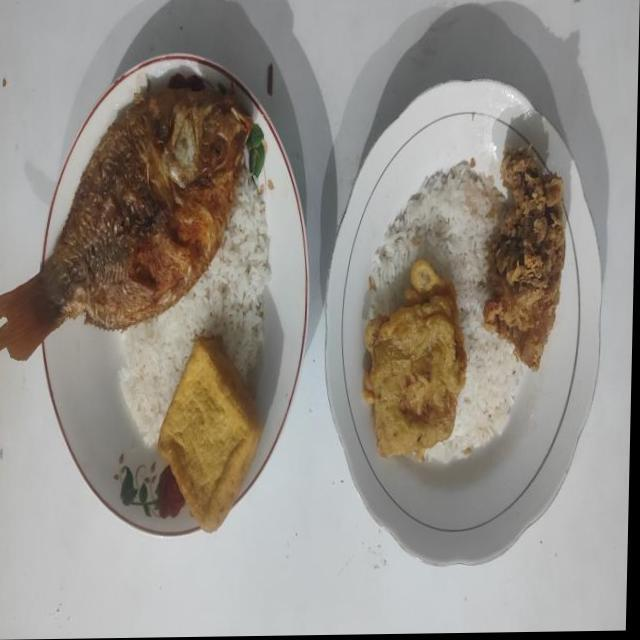ikan_mujair: (0, 80, 253, 358)
nasi_putih: (367, 156, 523, 462), (120, 176, 271, 447)
tahu_goreng: (158, 337, 263, 532)
